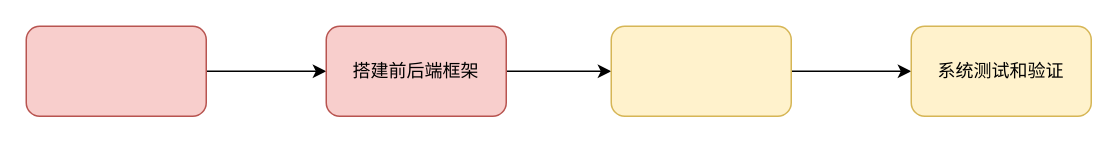
The diagram is 1118 pixels wide and 143 high, and some of its shapes have lost their labels. Each missing label, with the centre of its shape:
基于Unity搭建3D模型: point (115, 70)
时序预测算法设计: point (700, 70)
